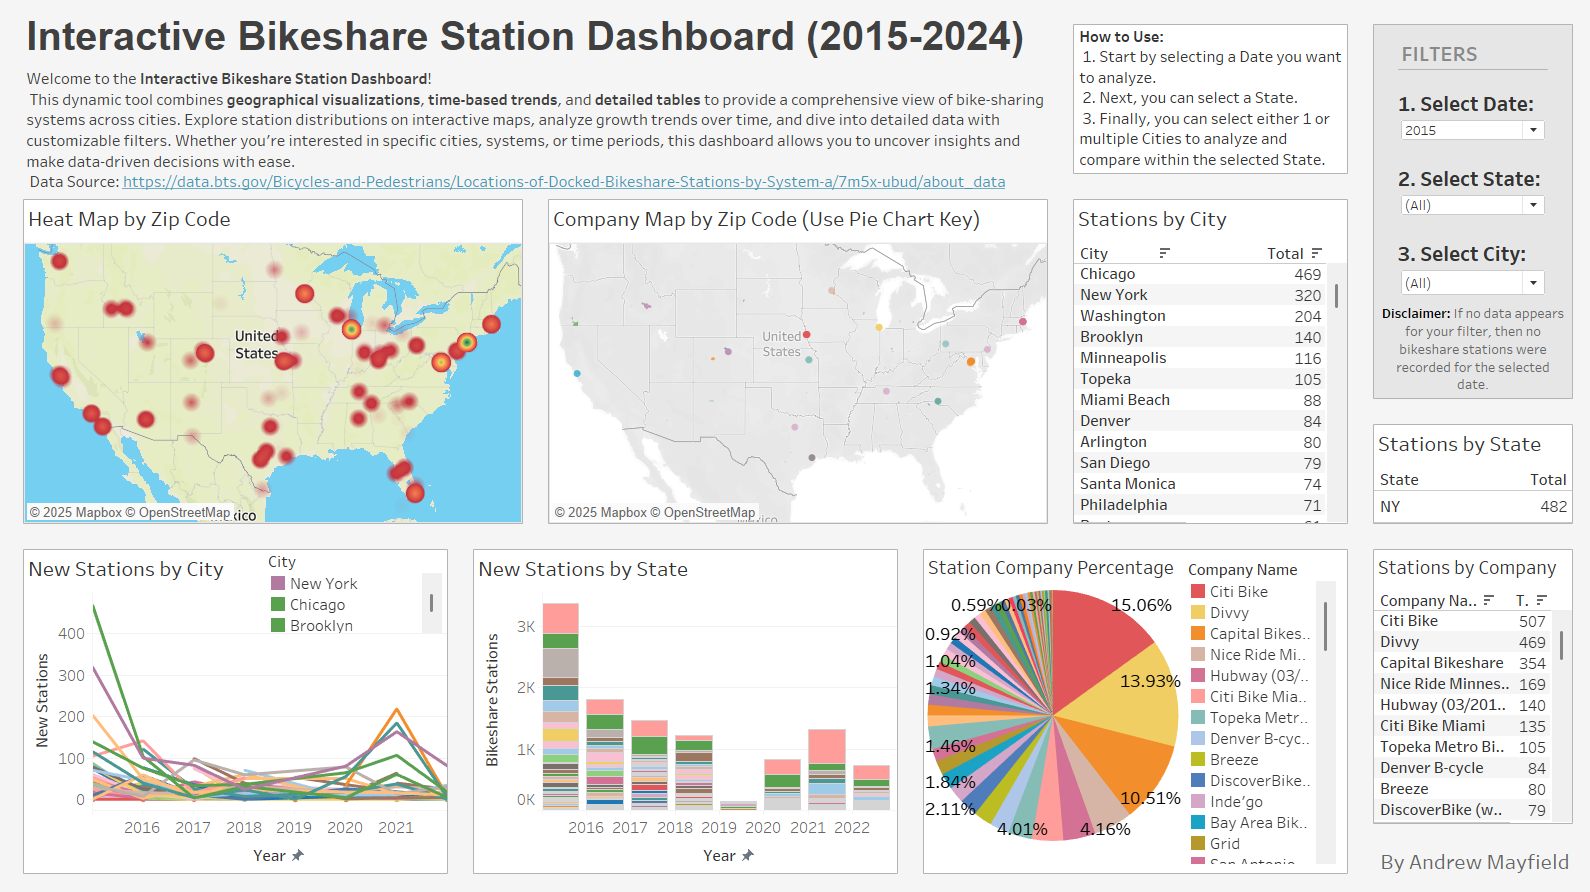

The page's visual inventory and layout, read from the dashboard file:
{"tool":"tableau","page":{"name":"State Dashboard","canvas":[1600,900],"ordinal":0},"visuals":[{"type":"text","box":[25,0,1050,75]},{"type":"text","box":[1075,25,275,150]},{"type":"text","box":[1400,40,150,30]},{"type":"text","box":[25,57,1025,150]},{"type":"blank","box":[1400,70,150,1]},{"type":"parameter","param":"[Parameters].[Parameter 1]","box":[1400,90,150,75]},{"type":"parameter","param":"[Parameters].[Parameter 4]","box":[1400,165,150,75]},{"type":"worksheet","title":"Heat Map by Zip Code","mark":"Heatmap","box":[25,200,500,325]},{"type":"worksheet","title":"Company Map by Zip Code","mark":"Multipolygon","box":[550,200,500,325]},{"type":"worksheet","title":"Total Number of Bikeshare Stations by City","mark":"Automatic","rows":["CITY"],"box":[1075,200,275,325]},{"type":"filter","title":"New Stations by City","param":"[federated.01lywv000c3tud1d7mmhw1czv3dz].[none:CITY:nk]","box":[1400,240,150,75]},{"type":"text","box":[1380,300,190,100]},{"type":"worksheet","title":"Total Number of Bikeshare Stations by State","mark":"Automatic","rows":["STATE"],"box":[1375,425,200,100]},{"type":"worksheet","title":"New Stations by City","mark":"Line","rows":["cleaned_bikeshare_stations.csv_4CB5F80719594EBEBF3B752260803"],"cols":["YEAR"],"box":[25,550,425,325]},{"type":"worksheet","title":"Total Number of Bikeshare Stations by State from 2015-2024","mark":"Bar","rows":["cleaned_bikeshare_stations.csv_4CB5F80719594EBEBF3B752260803"],"cols":["YEAR"],"box":[475,550,425,325]},{"type":"worksheet","title":"Company Pie Chart","mark":"Pie","box":[925,550,425,325]},{"type":"worksheet","title":"Total Number of Bikeshare Stations by Company","mark":"Automatic","rows":["SYSTEM_NAME"],"box":[1375,550,200,275]},{"type":"legend","title":"New Stations by City","param":"[federated.01lywv000c3tud1d7mmhw1czv3dz].[none:CITY:nk]","box":[270,552,176,82]},{"type":"legend","title":"Company Pie Chart","param":"[federated.01lywv000c3tud1d7mmhw1czv3dz].[none:SYSTEM_NAME:nk]","box":[1190,560,150,305]},{"type":"text","box":[1375,850,200,25]}]}

Visuals, with their boxes in screenshot pixels (x1, y1, x2, y2), scaled from the page's 1600x900 canvas onto the 1590x892 screenshot:
text: box(25, 0, 1068, 74)
text: box(1068, 25, 1342, 173)
text: box(1391, 40, 1540, 69)
text: box(25, 56, 1043, 205)
blank: box(1391, 69, 1540, 70)
parameter: box(1391, 89, 1540, 164)
parameter: box(1391, 164, 1540, 238)
"Heat Map by Zip Code" worksheet (Heatmap marks): box(25, 198, 522, 520)
"Company Map by Zip Code" worksheet (Multipolygon marks): box(547, 198, 1043, 520)
"Total Number of Bikeshare Stations by City" worksheet: box(1068, 198, 1342, 520)
"New Stations by City" filter: box(1391, 238, 1540, 312)
text: box(1371, 297, 1560, 396)
"Total Number of Bikeshare Stations by State" worksheet: box(1366, 421, 1565, 520)
"New Stations by City" worksheet (Line marks): box(25, 545, 447, 867)
"Total Number of Bikeshare Stations by State from 2015-2024" worksheet (Bar marks): box(472, 545, 894, 867)
"Company Pie Chart" worksheet (Pie marks): box(919, 545, 1342, 867)
"Total Number of Bikeshare Stations by Company" worksheet: box(1366, 545, 1565, 818)
"New Stations by City" legend: box(268, 547, 443, 628)
"Company Pie Chart" legend: box(1183, 555, 1332, 857)
text: box(1366, 842, 1565, 867)
